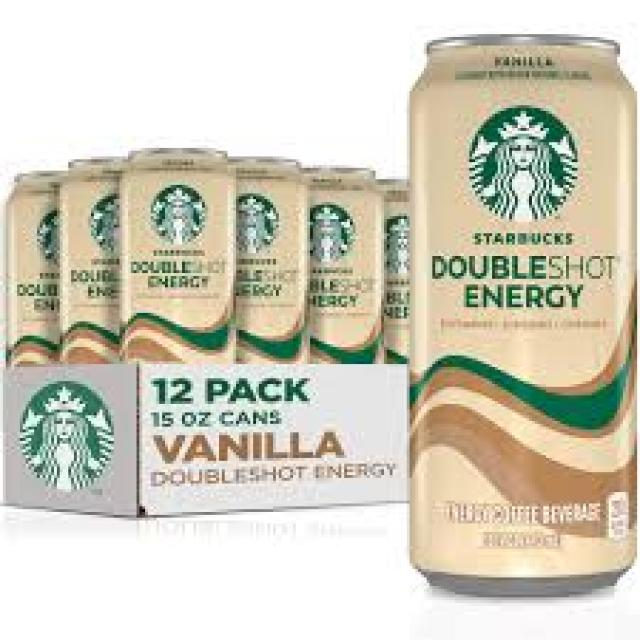Cans: (401, 34, 640, 595)
